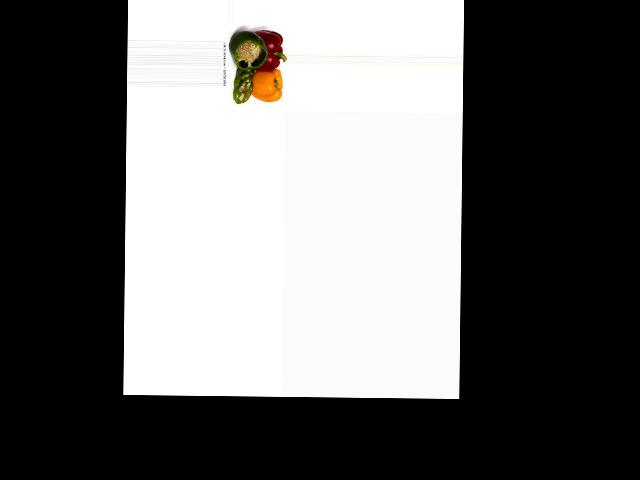bell_pepper: (232, 27, 269, 70)
